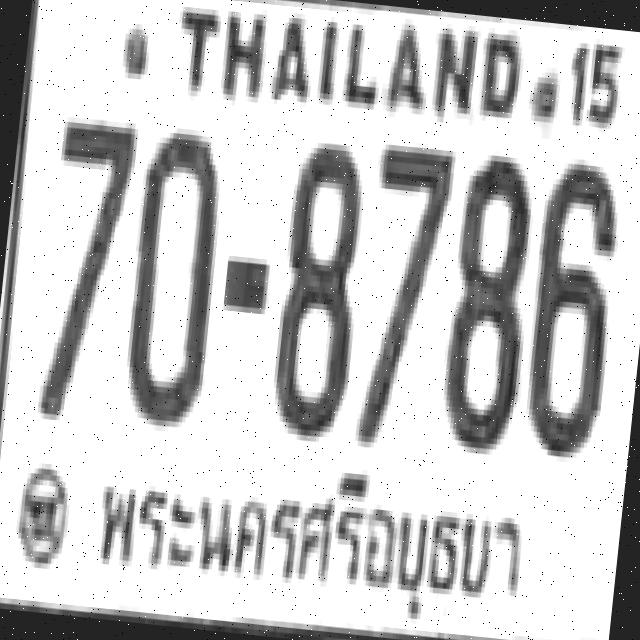0: (118, 121, 228, 426)
6: (518, 155, 622, 454)
7: (29, 110, 138, 420), (348, 137, 453, 447), (36, 112, 136, 368)
8: (434, 147, 540, 451), (265, 137, 369, 436)
Ayutthaya: (78, 433, 544, 634)
